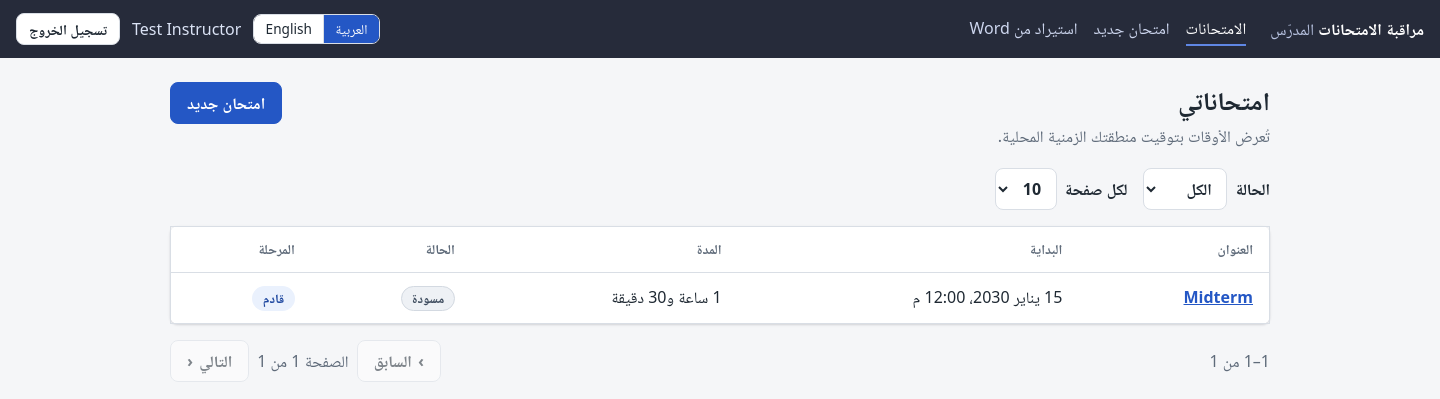
Test case: language switching in the running app › still works in Arabic when localStorage is unavailable
This screenshot has width=1440, height=399.
Expected: the heading "امتحاناتي" is shown, [1178,83,1270,118]
Click the button "English": (289, 29) [254,15,324,43]
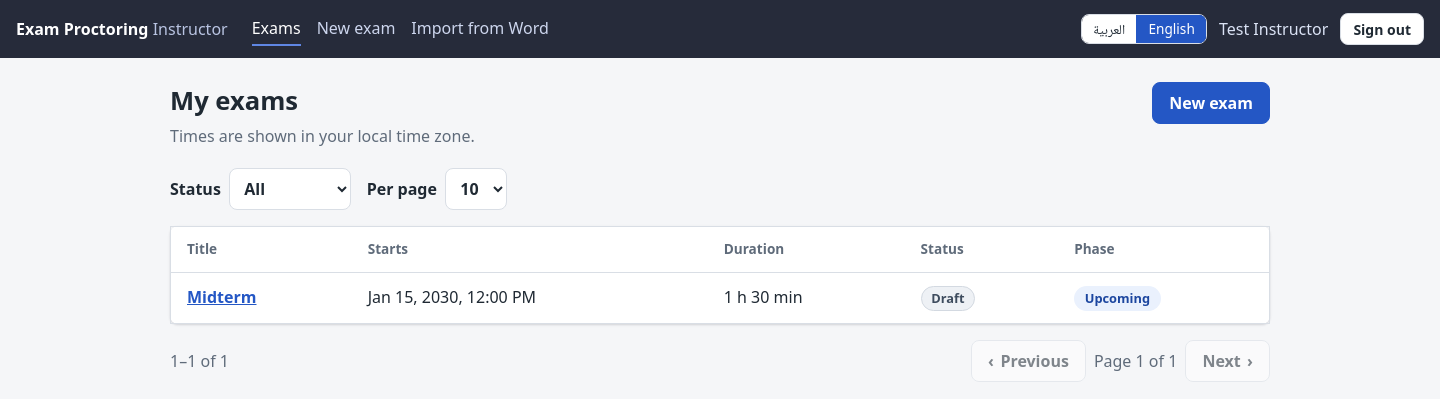
Expected: the heading "My exams" is shown, [170,83,298,118]
